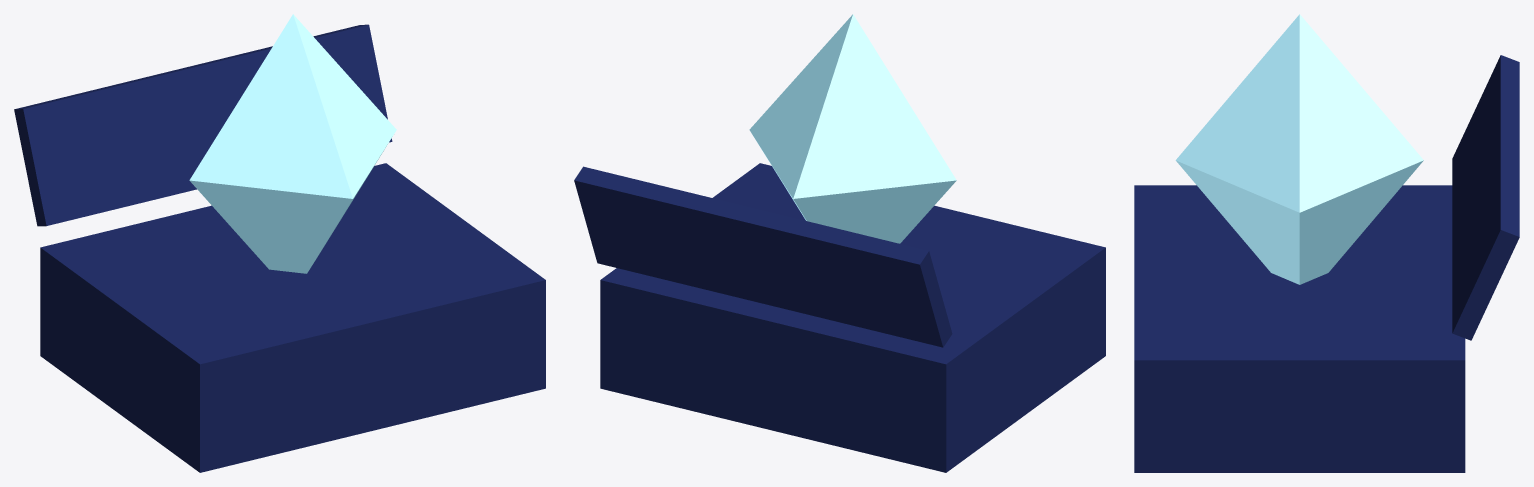
Rendered from snoring_diamond.glb.
The picture shows the model from 3 angles, left to right: view 1: azimuth 30°, elevation 25°; view 2: azimuth 150°, elevation 25°; view 3: azimuth 270°, elevation 25°; orthographic projection. The views are drawn at different scales.
Visible parts, largest first — view 1: case_velvet_blue, diamond_diamond; view 2: case_velvet_blue, diamond_diamond; view 3: case_velvet_blue, diamond_diamond.
Boxes of the visible parts, x1,y1,x2,y2 form: case_velvet_blue: (14, 24, 545, 472); diamond_diamond: (189, 14, 396, 273); case_velvet_blue: (574, 163, 1105, 472); diamond_diamond: (749, 14, 956, 243); case_velvet_blue: (1134, 55, 1519, 472); diamond_diamond: (1175, 14, 1423, 284).
Bounding box in the file's own units: 0.2 × 0.198 × 0.1863.
